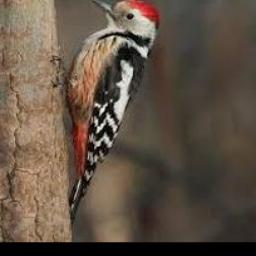Woodpecker: (51, 0, 159, 225)
